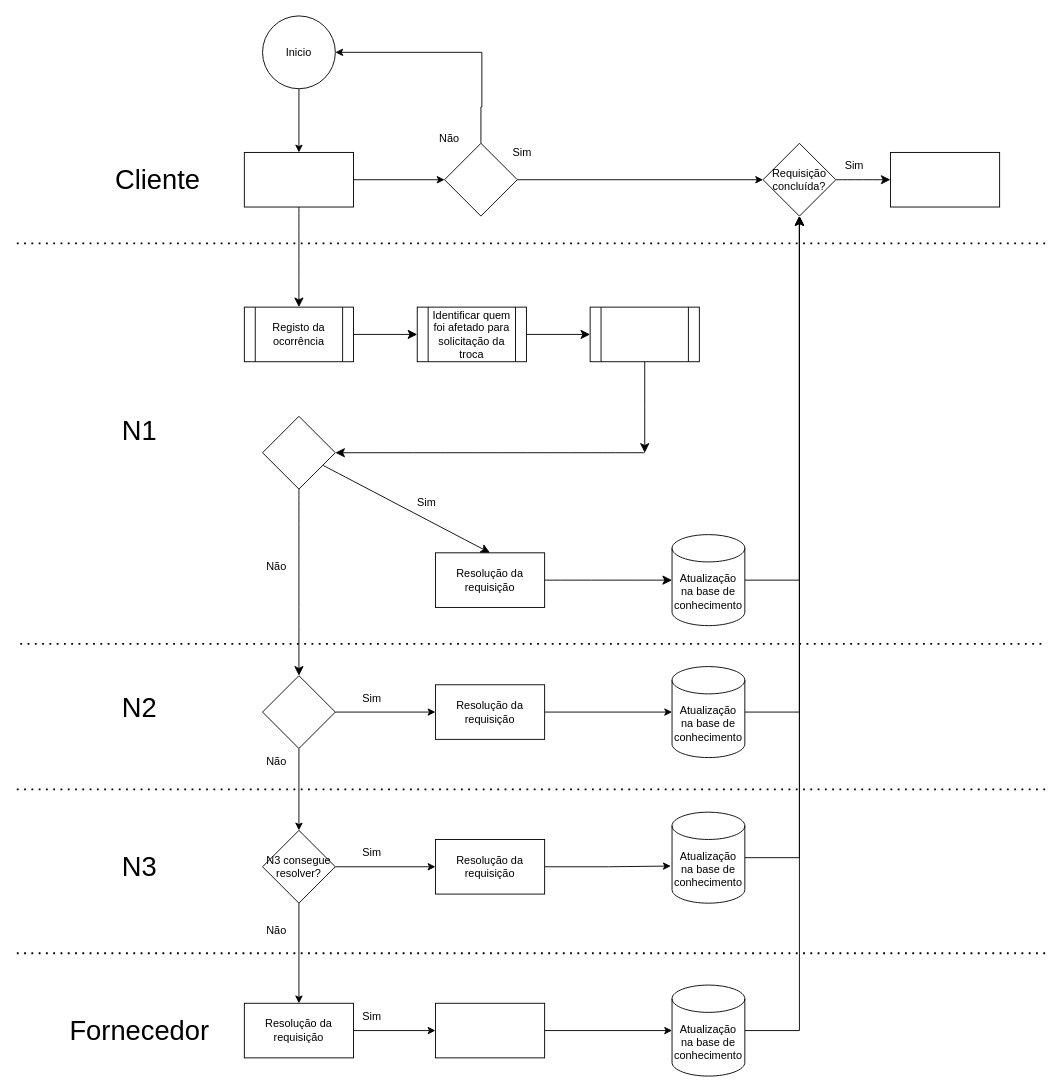
The diagram is 1062 pixels wide and 1092 high, and some of its shapes have lost their labels. Each missing label, with the centre of its shape:
Abertura do chamado: point (298, 179)
Cliente consegue resolver?: point (480, 179)
Definir prioridade com base na Matrix SLA: point (644, 334)
Encerrar atendimento: point (945, 179)
Manutenção geral ou troca: point (490, 1030)
N1 consegue resolver?: point (298, 452)
N2 consegue resolver?: point (298, 711)
